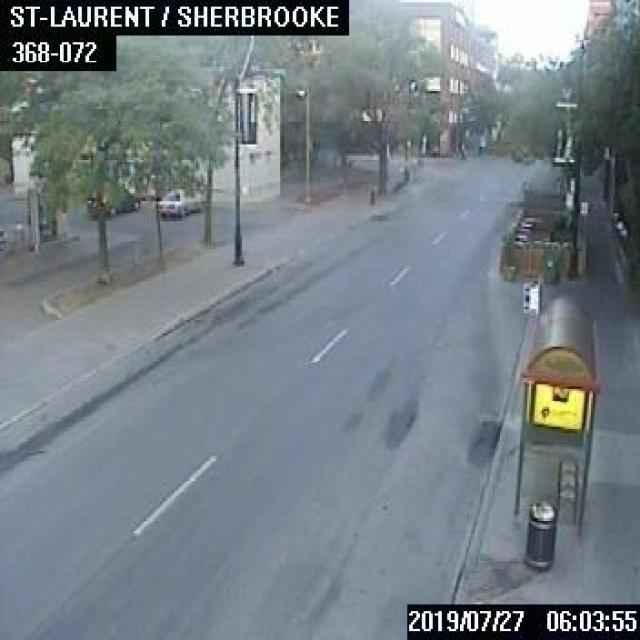vehicle: (84, 188, 138, 215), (156, 186, 203, 216)
